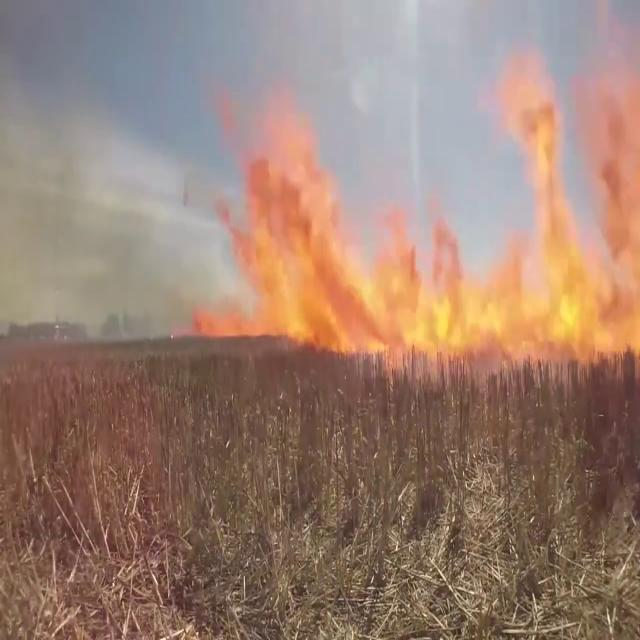Fire: (203, 50, 640, 368)
